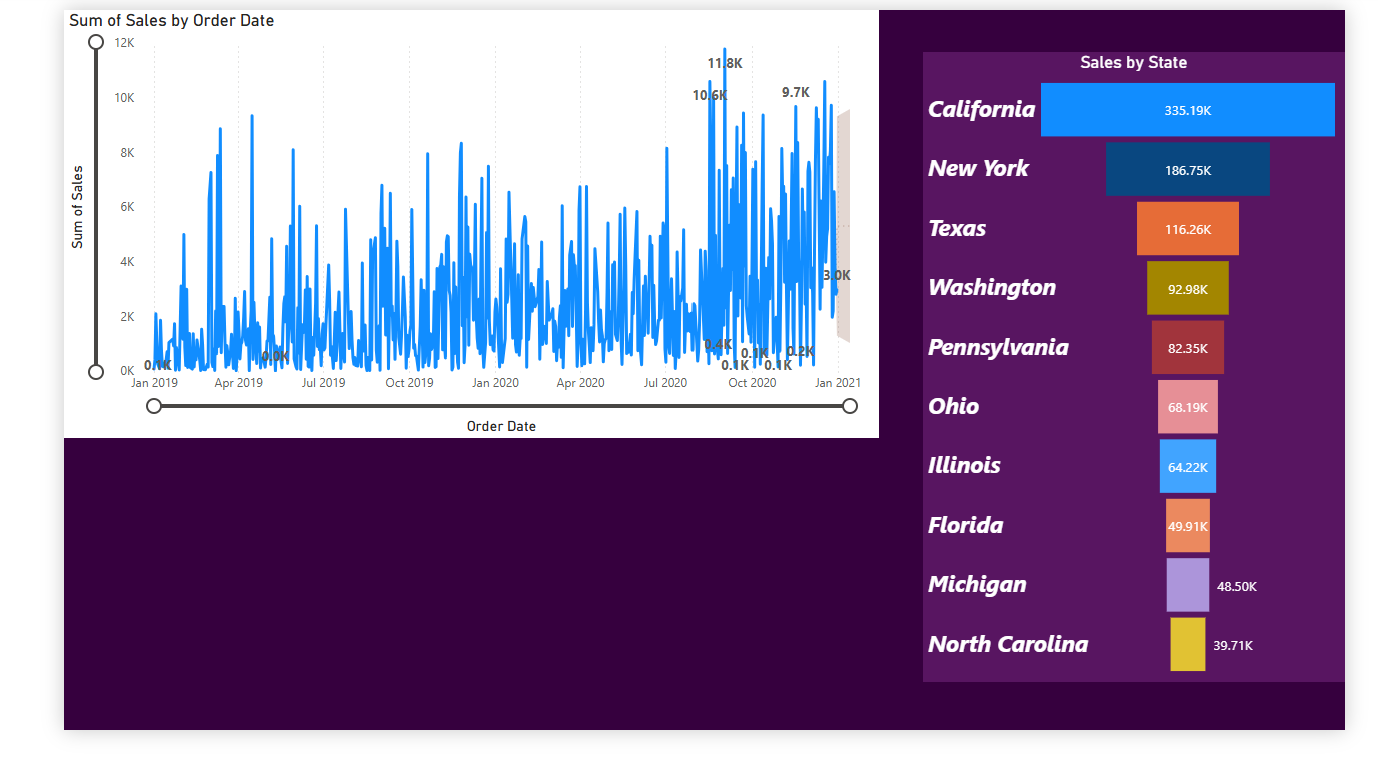

The page's visual inventory and layout, read from the dashboard file:
{"tool":"powerbi","page":{"name":"Sales Forecast","canvas":[1280,720],"ordinal":1},"visuals":[{"type":"lineChart","fields":{"Y":["Sum(Sheet1.Sales)"],"Category":["Sheet1.Order Date"]},"box":[0,0,814,428],"z":0},{"type":"funnel","title":" Sales by State","fields":{"Category":["Sheet1.State"],"Y":["Sum(Sheet1.Sales)"]},"box":[858,42,422,630],"z":1000}]}

Visuals, with their boxes in screenshot pixels (x1, y1, x2, y2), scaled from the page's 1280x720 canvas onto the 1378x772 screenshot:
lineChart - Sum(Sheet1.Sales) x Sheet1.Order Date: x1=0 y1=0 x2=876 y2=459
" Sales by State" funnel: x1=924 y1=45 x2=1377 y2=721
